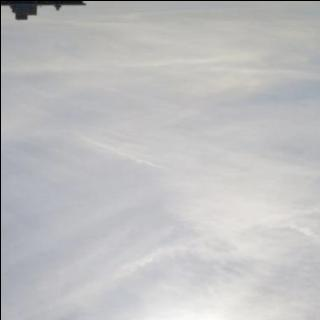Contrails: (0, 28, 320, 320)
